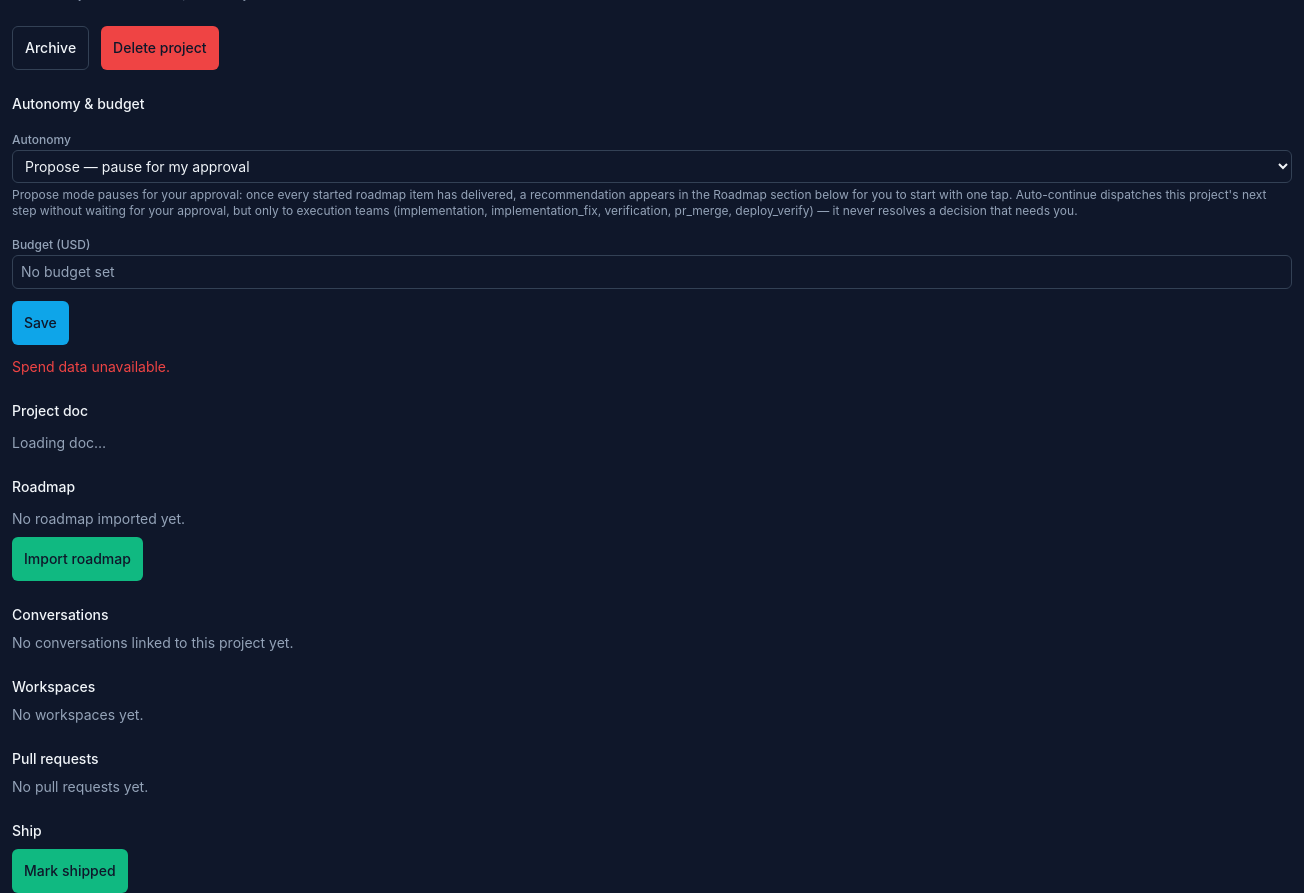
Test case: Project › ship project › skips the doc refetch and shows no summary yet when the project doc is still loading at completion time
(page scrolled)
Click the button with test id "project-complete-button".
click(70, 871)  # box [12,849,128,892]
(page scrolled)
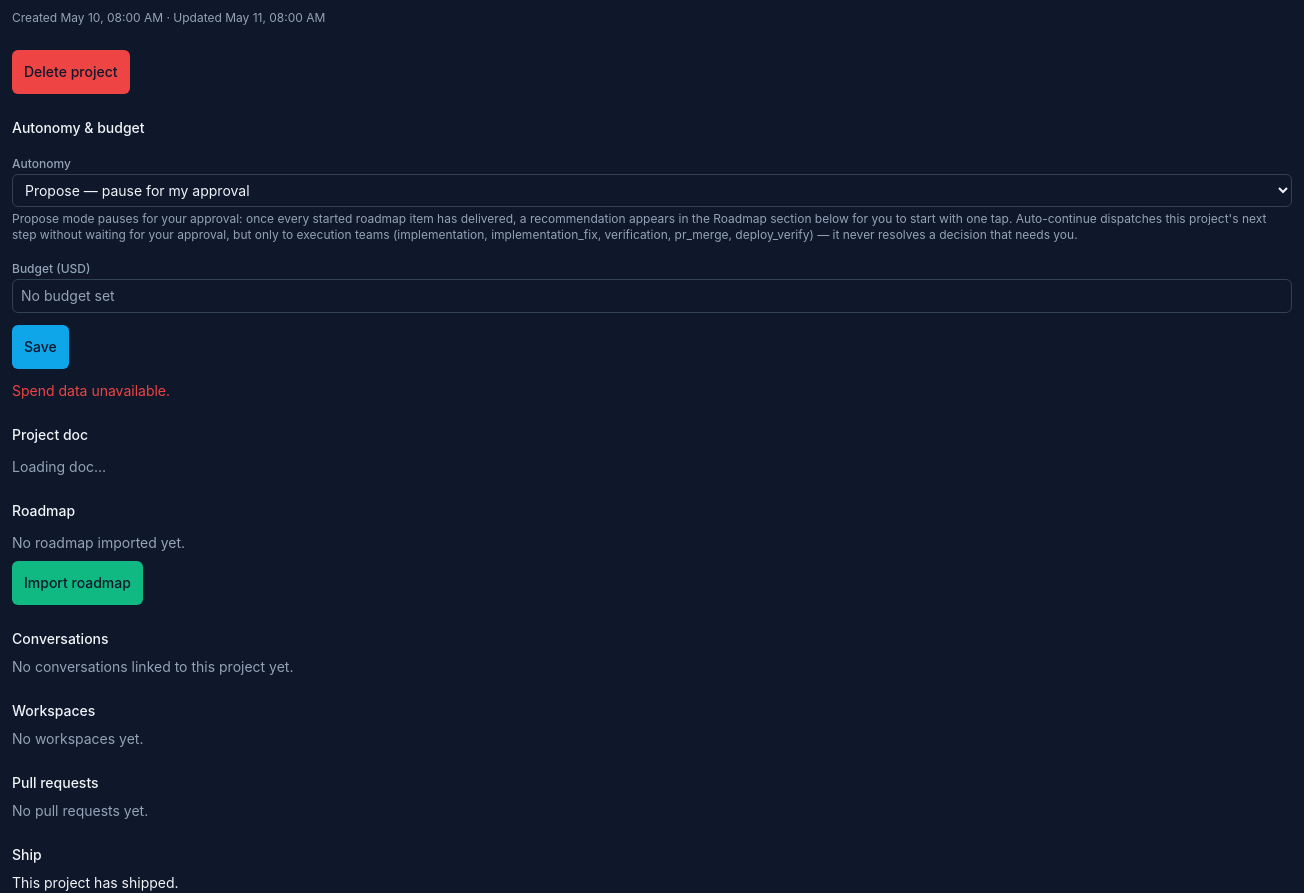
Expected: the element with test id "project-complete-shipped" is shown, [12,874,178,891]
